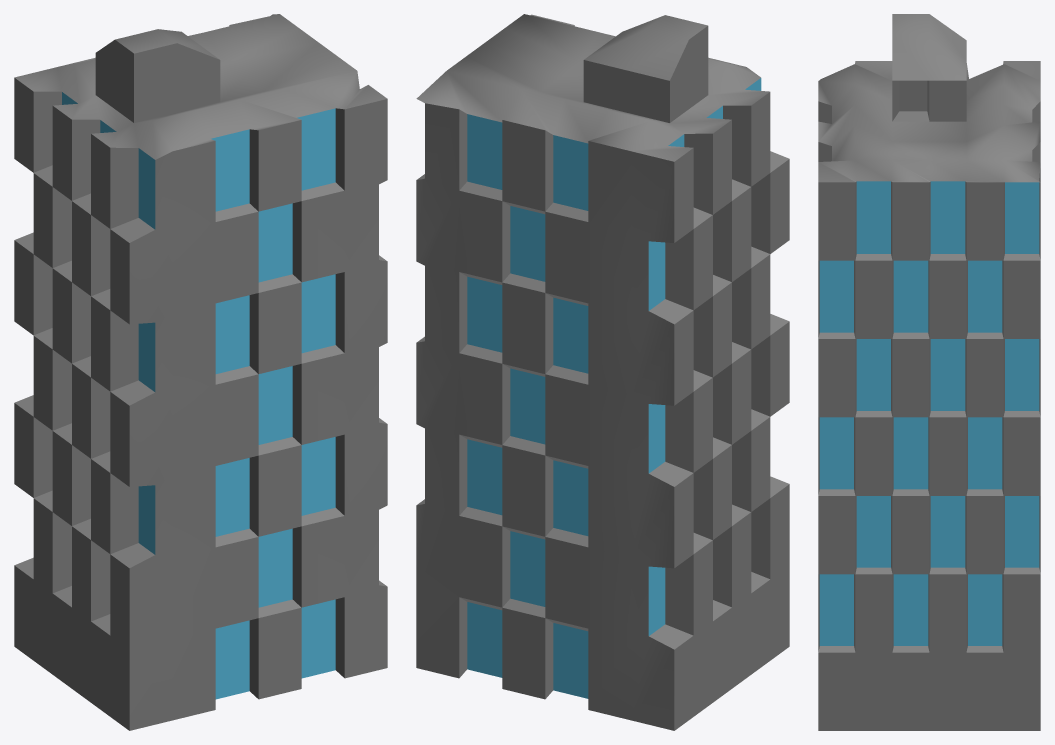
The model's file is SkyScraper_HT.fbx.
3 views of the same model, side by side, from view 1: azimuth 30°, elevation 25°; view 2: azimuth 150°, elevation 25°; view 3: azimuth 270°, elevation 25° (orthographic). The views are drawn at different scales.
Visible parts, largest first — view 1: Box011; view 2: Box011; view 3: Box011.
Boxes of the visible parts, bbox=[...] form: Box011: bbox=[14, 14, 387, 730]; Box011: bbox=[416, 14, 789, 730]; Box011: bbox=[818, 14, 1040, 730].
Size of the model in its own units: 1228 by 2904 by 950.
